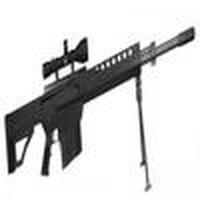gun: (3, 26, 195, 173)
